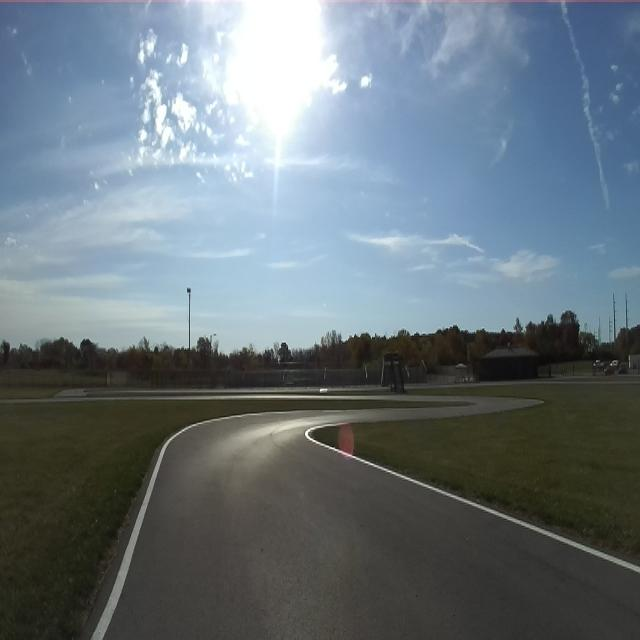white-line: (306, 423, 640, 574), (92, 412, 290, 639)
